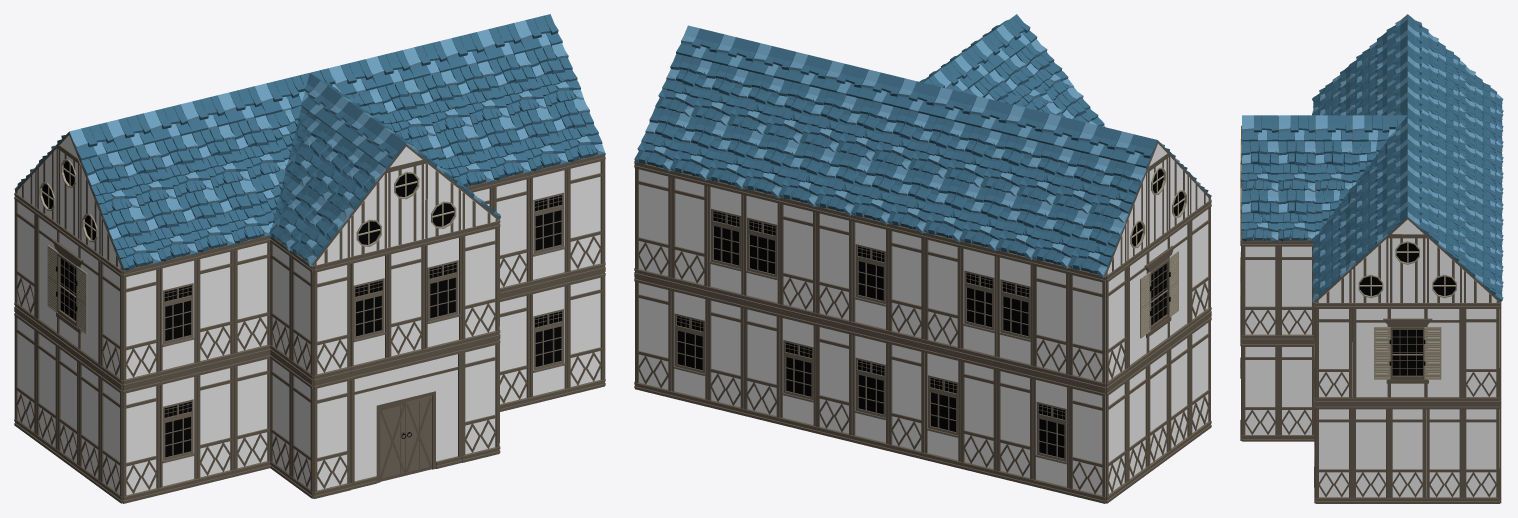
File: House_16_full.fbx
The picture shows the model from 3 angles, left to right: view 1: azimuth 30°, elevation 25°; view 2: azimuth 150°, elevation 25°; view 3: azimuth 270°, elevation 25°; orthographic projection. The views are drawn at different scales.
Visible parts, largest first — view 1: DOOR_03_2, WINDOW_07_3, WALL_01_14, WALL_01_15, WINDOW_04_6, WALL_01_13, WALL_01_2, WALL_01_8, WINDOW_04_11, WALL_01_40, WINDOW_04_12, WALL_01_41 (+77 smaller); view 2: WINDOW_07_3, WALL_01_50, WALL_01_25, WALL_01_53, WALL_01_30, WINDOW_04_9, WALL_01_28, WALL_01_54, WALL_01_31, WALL_01_56, WINDOW_04_16, WALL_01_55 (+73 smaller); view 3: WINDOW_07_4, WALL_01_43, WALL_01_45, WALL_01_46, WALL_01_44, WALL_01_33, WALL_01_34, WALL_01_42, WALL_01_47, WALL_01_48, WALL_01_35, WALL_01_32 (+86 smaller).
Part boxes in pixels (x1=…): DOOR_03_2: x1=350, y1=347, x2=462, y2=489; WINDOW_07_3: x1=35, y1=208, x2=100, y2=371; WALL_01_14: x1=313, y1=257, x2=351, y2=382; WALL_01_15: x1=387, y1=239, x2=425, y2=364; WINDOW_04_6: x1=350, y1=248, x2=388, y2=373; WALL_01_13: x1=122, y1=263, x2=160, y2=387; WALL_01_2: x1=313, y1=374, x2=351, y2=498; WALL_01_8: x1=122, y1=378, x2=160, y2=503; WINDOW_04_11: x1=530, y1=164, x2=567, y2=288; WALL_01_40: x1=567, y1=155, x2=604, y2=279; WINDOW_04_12: x1=530, y1=279, x2=567, y2=404; WALL_01_41: x1=567, y1=270, x2=604, y2=395; WINDOW_07_3: x1=1127, y1=215, x2=1190, y2=374; WALL_01_50: x1=743, y1=302, x2=780, y2=424; WALL_01_25: x1=996, y1=364, x2=1033, y2=486; WALL_01_53: x1=815, y1=205, x2=852, y2=328; WALL_01_30: x1=924, y1=232, x2=960, y2=354; WINDOW_04_9: x1=960, y1=241, x2=997, y2=363; WALL_01_28: x1=1069, y1=267, x2=1105, y2=390; WALL_01_54: x1=779, y1=197, x2=816, y2=319; WALL_01_31: x1=888, y1=223, x2=924, y2=345; WALL_01_56: x1=634, y1=161, x2=671, y2=284; WINDOW_04_16: x1=851, y1=214, x2=888, y2=337; WALL_01_55: x1=671, y1=170, x2=707, y2=292; WINDOW_07_4: x1=1352, y1=303, x2=1462, y2=403; WALL_01_43: x1=1315, y1=303, x2=1352, y2=403; WALL_01_45: x1=1352, y1=403, x2=1389, y2=503; WALL_01_46: x1=1389, y1=403, x2=1426, y2=503; WALL_01_44: x1=1315, y1=403, x2=1352, y2=503; WALL_01_33: x1=1242, y1=240, x2=1278, y2=341; WALL_01_34: x1=1242, y1=341, x2=1278, y2=441; WALL_01_42: x1=1463, y1=303, x2=1499, y2=403; WALL_01_47: x1=1426, y1=403, x2=1462, y2=503; WALL_01_48: x1=1463, y1=403, x2=1499, y2=503; WALL_01_35: x1=1278, y1=341, x2=1314, y2=441; WALL_01_32: x1=1278, y1=240, x2=1314, y2=341.
Bounding box in the file's own units: 1317 × 859 × 714.
